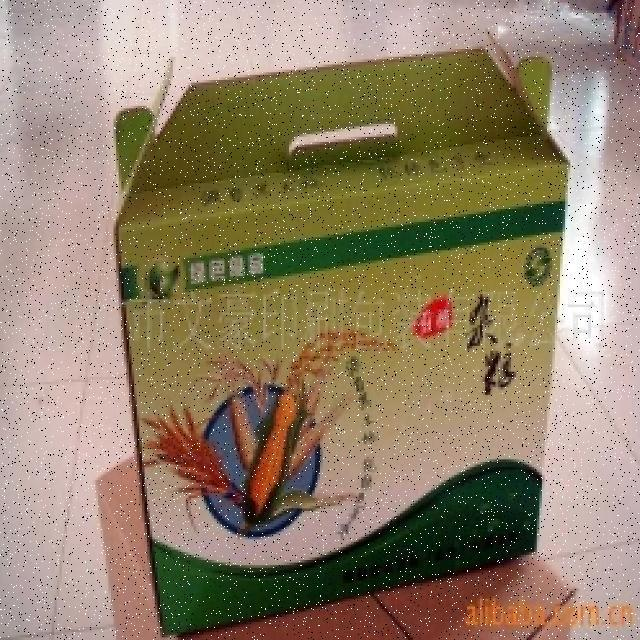box: (69, 66, 584, 608)
